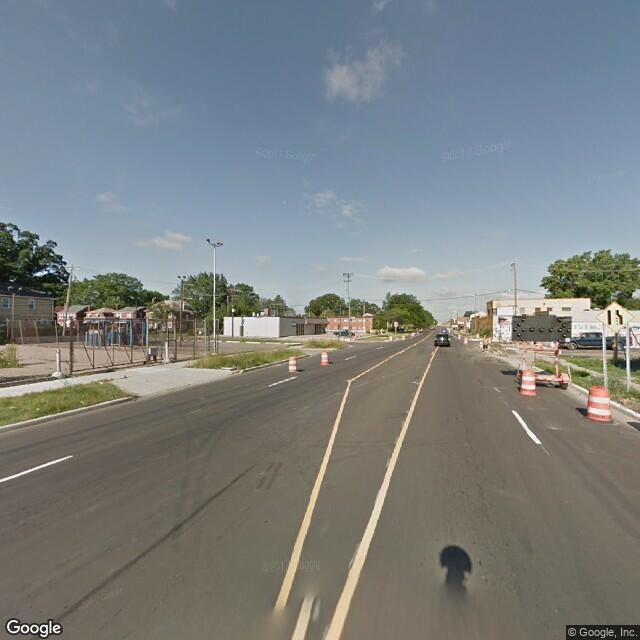litter: (90, 376, 111, 386)
